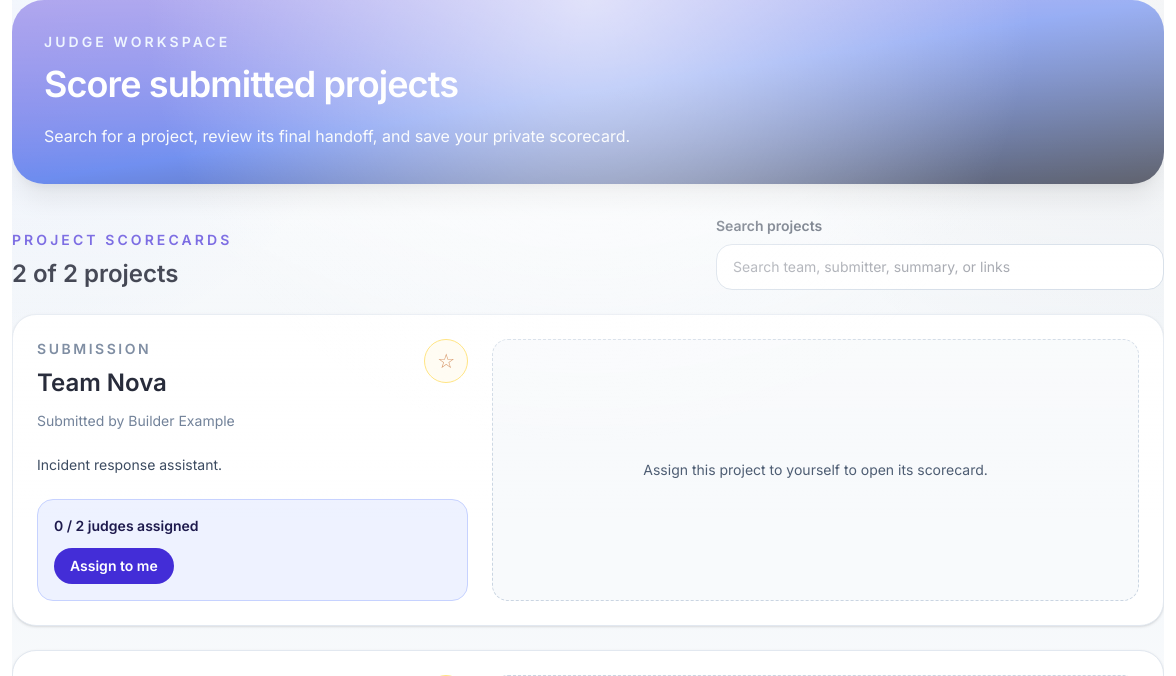
Scenario: JudgingPage › filters projects in the judge workspace
The image size is (1176, 676).
Expected: the heading "Team Nova" is shown, [37,367,167,399]
Type "ledger" into the search field labelled "Search projects" at [940, 267], box [716,244,1164,290]
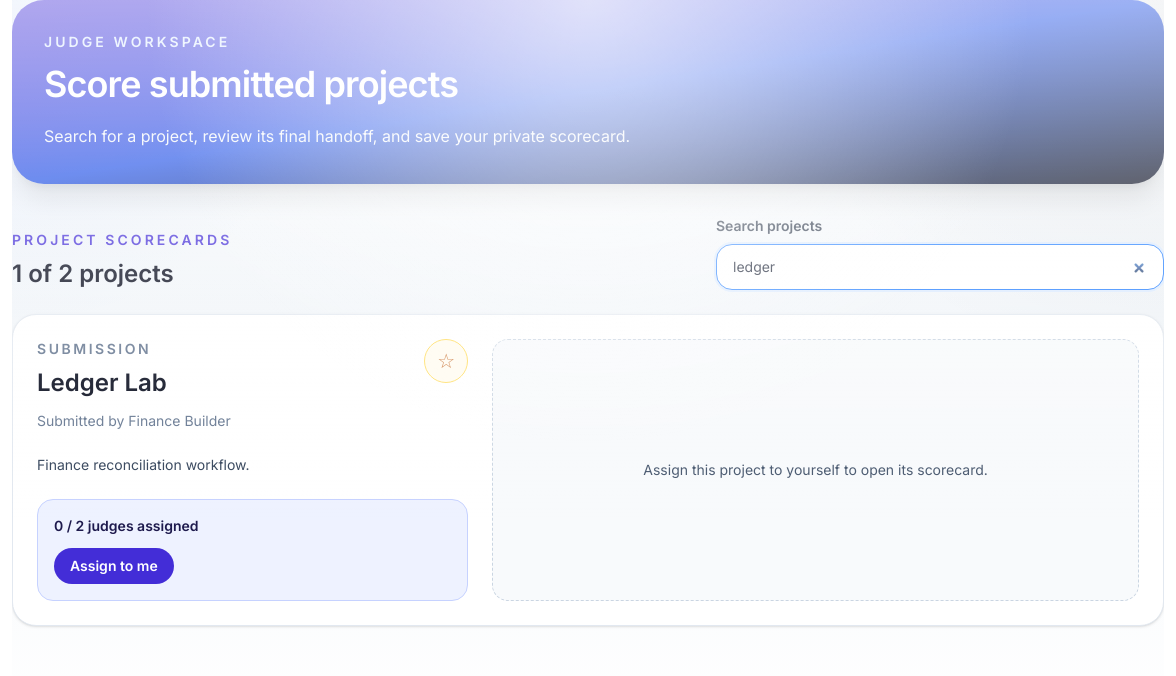
Expected: the heading "Ledger Lab" is shown, [37,367,167,399]
Expected: the heading "Team Nova" is gone
